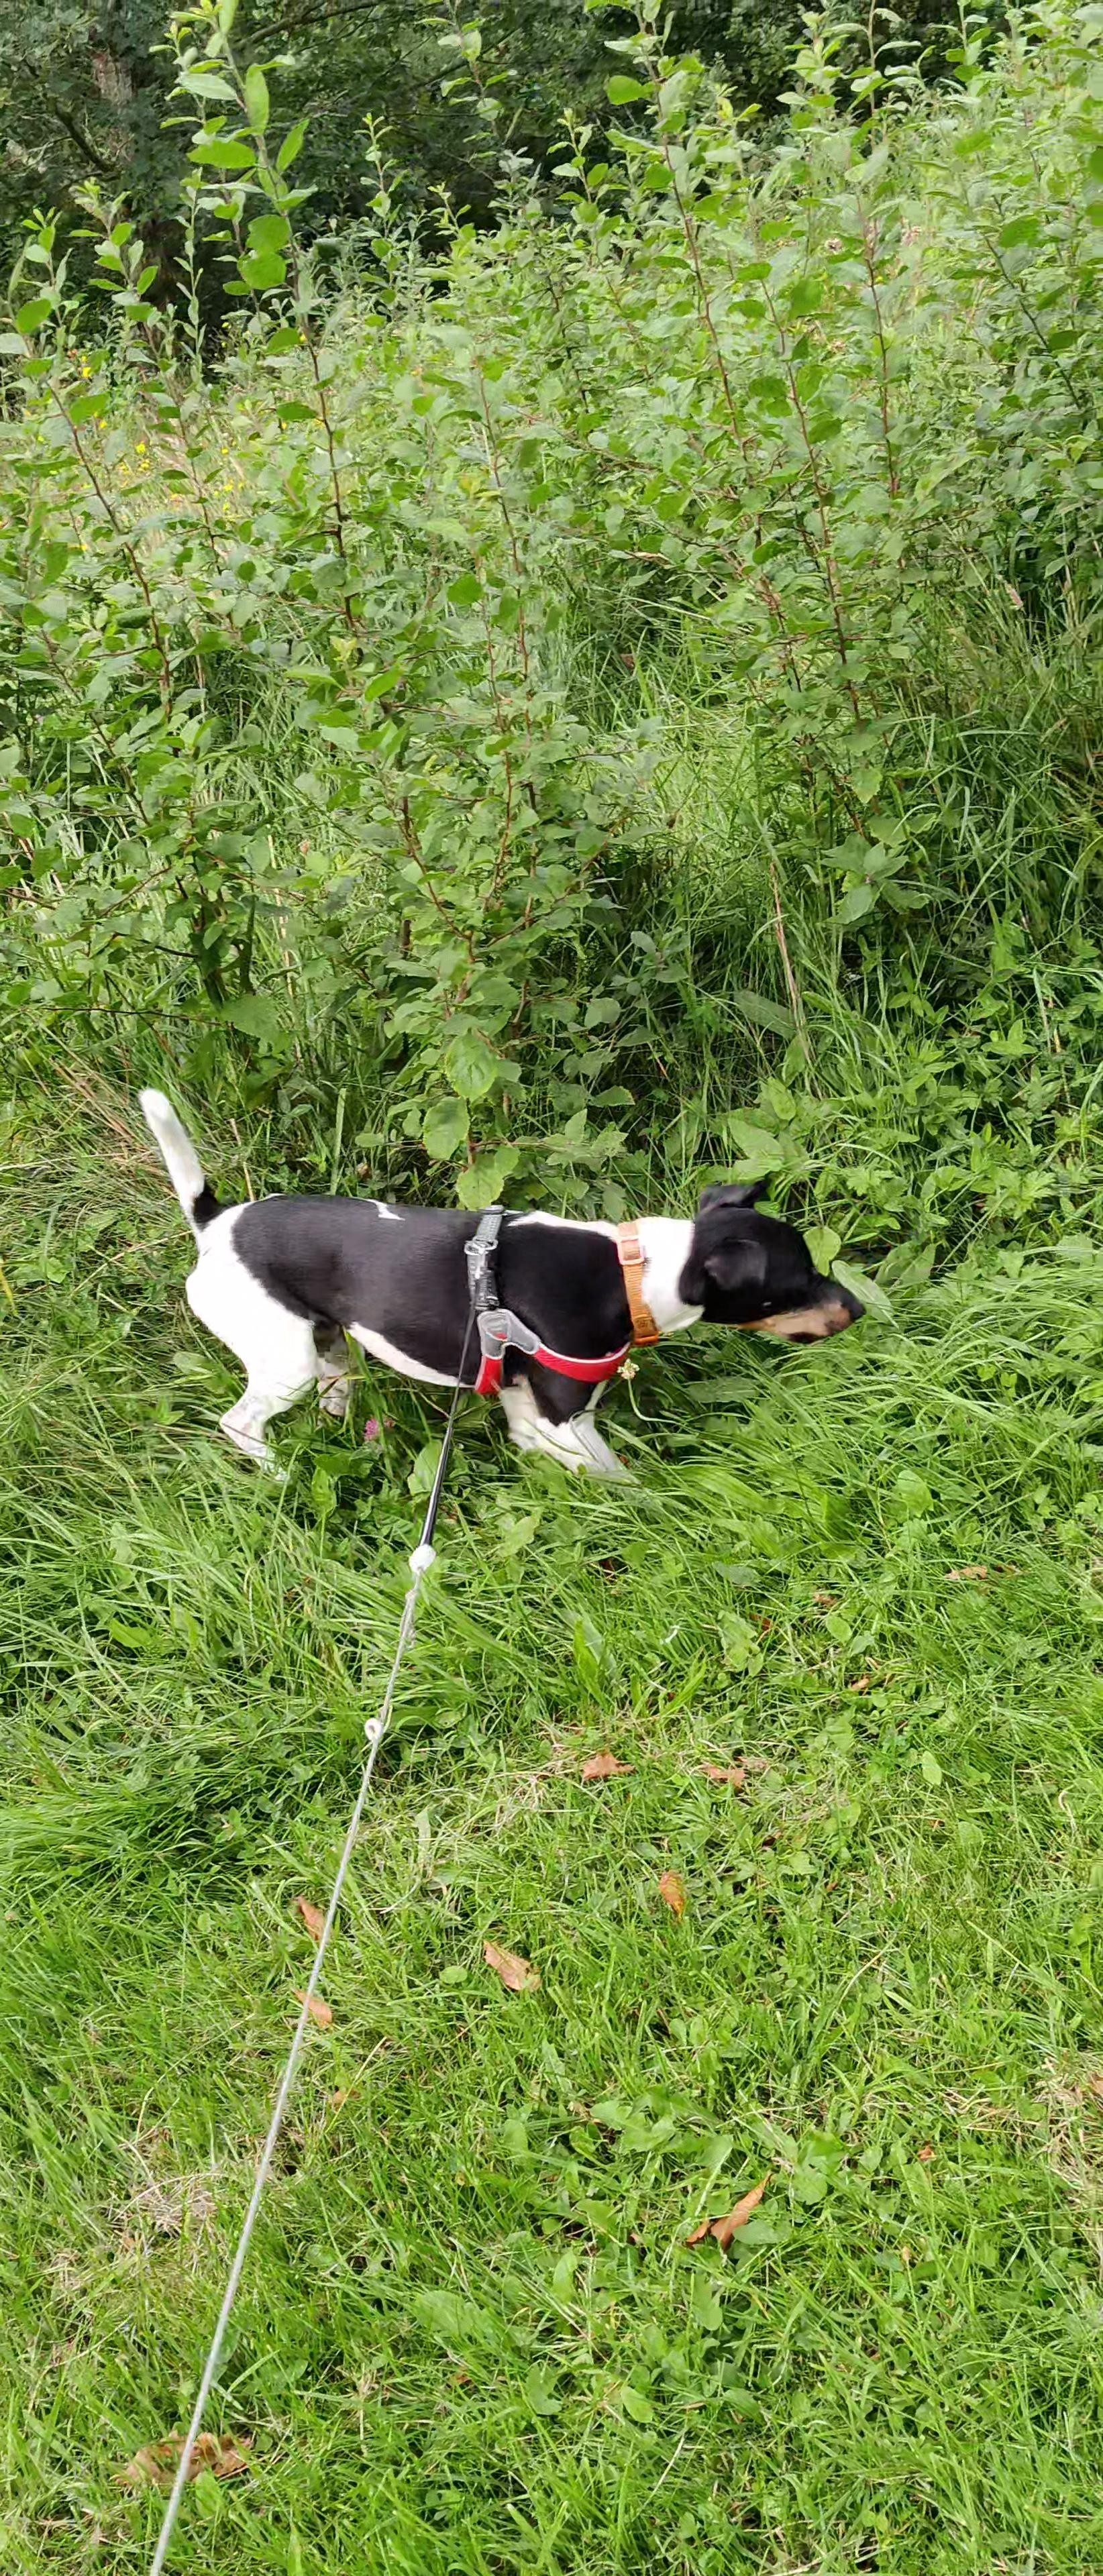Dog: (133, 1081, 875, 1497)
